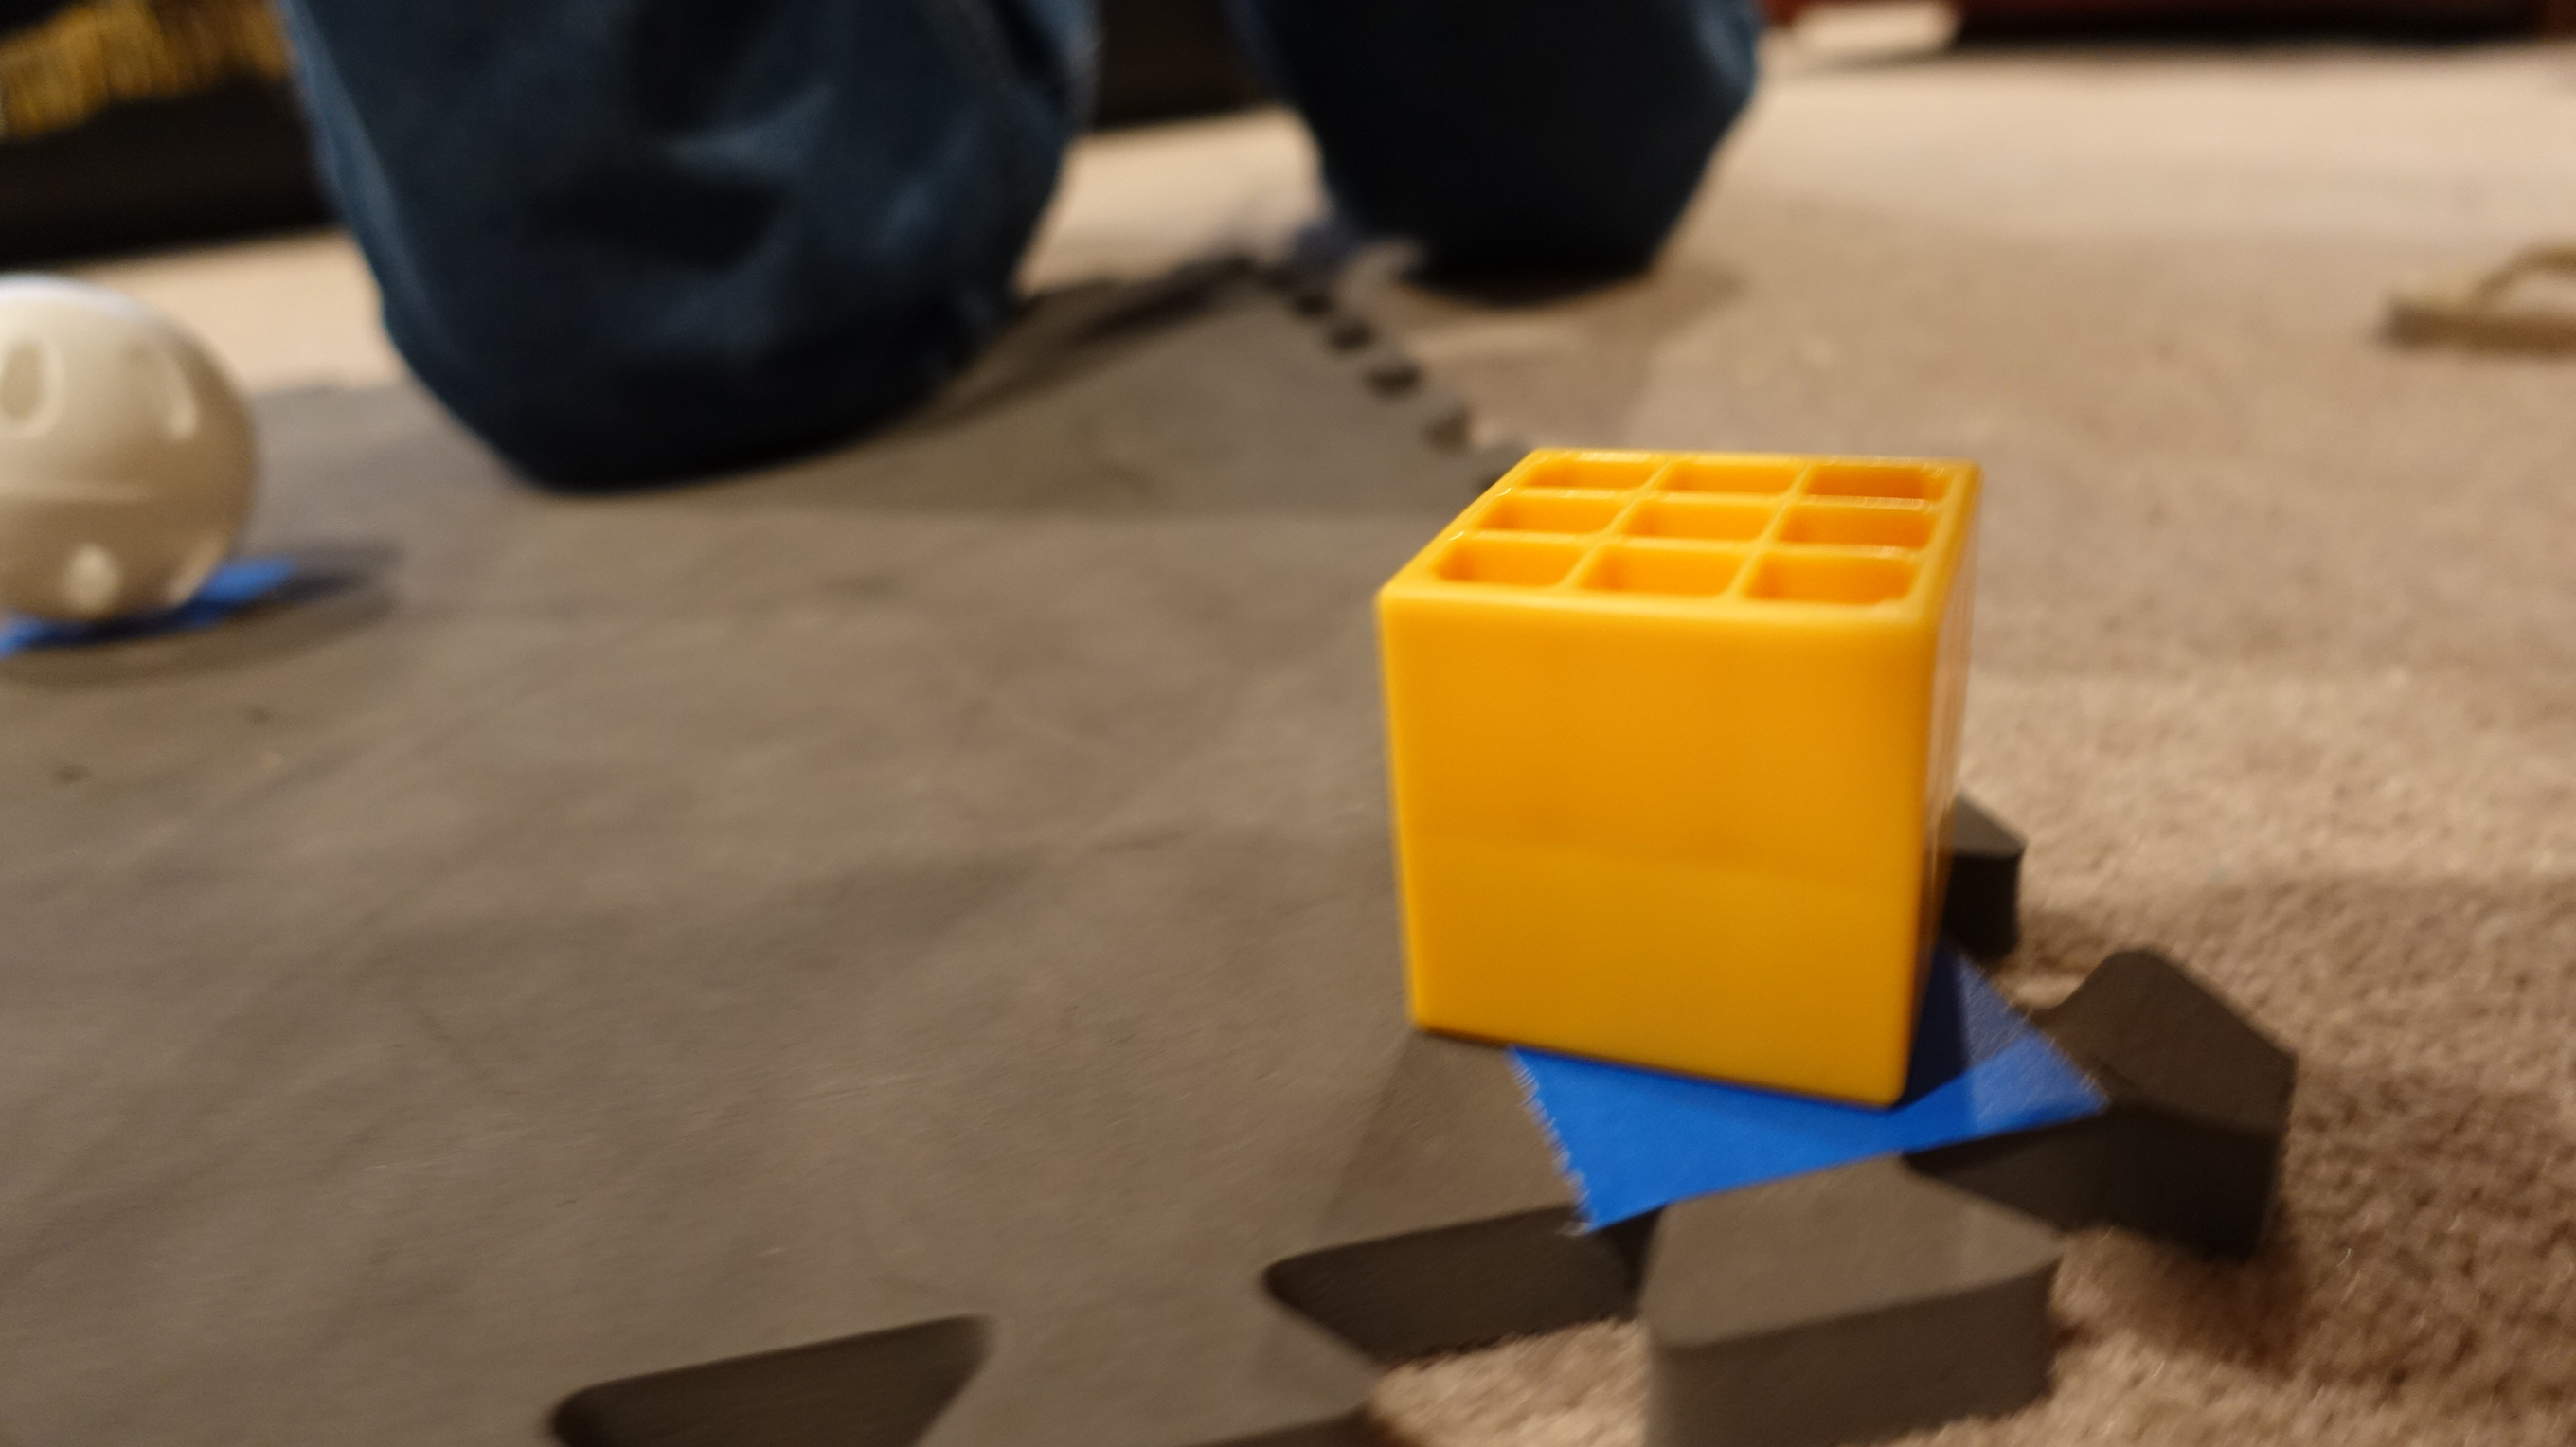gold: (1366, 414, 1990, 1111)
silver: (2, 262, 271, 640)
